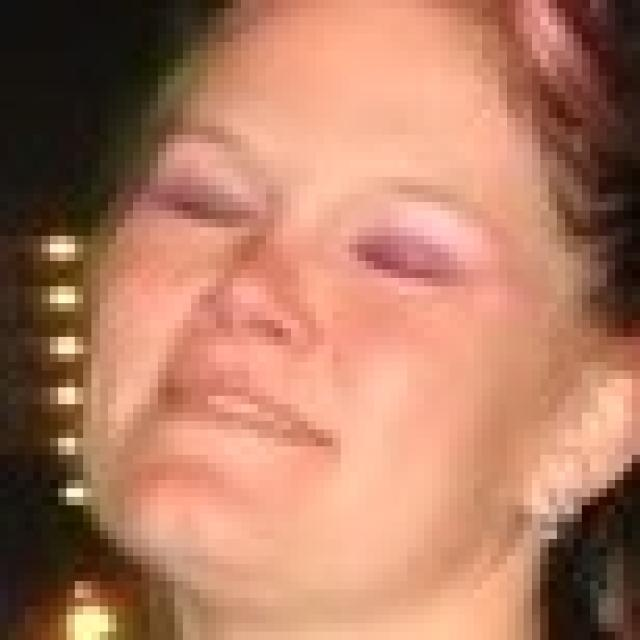Eyeclosed: (352, 227, 464, 292), (167, 181, 255, 233)
